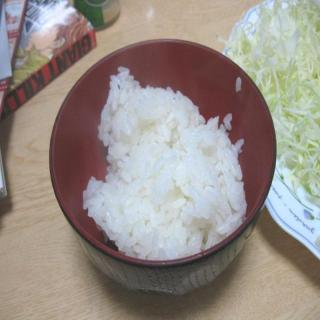Nasi: (82, 66, 250, 262)
